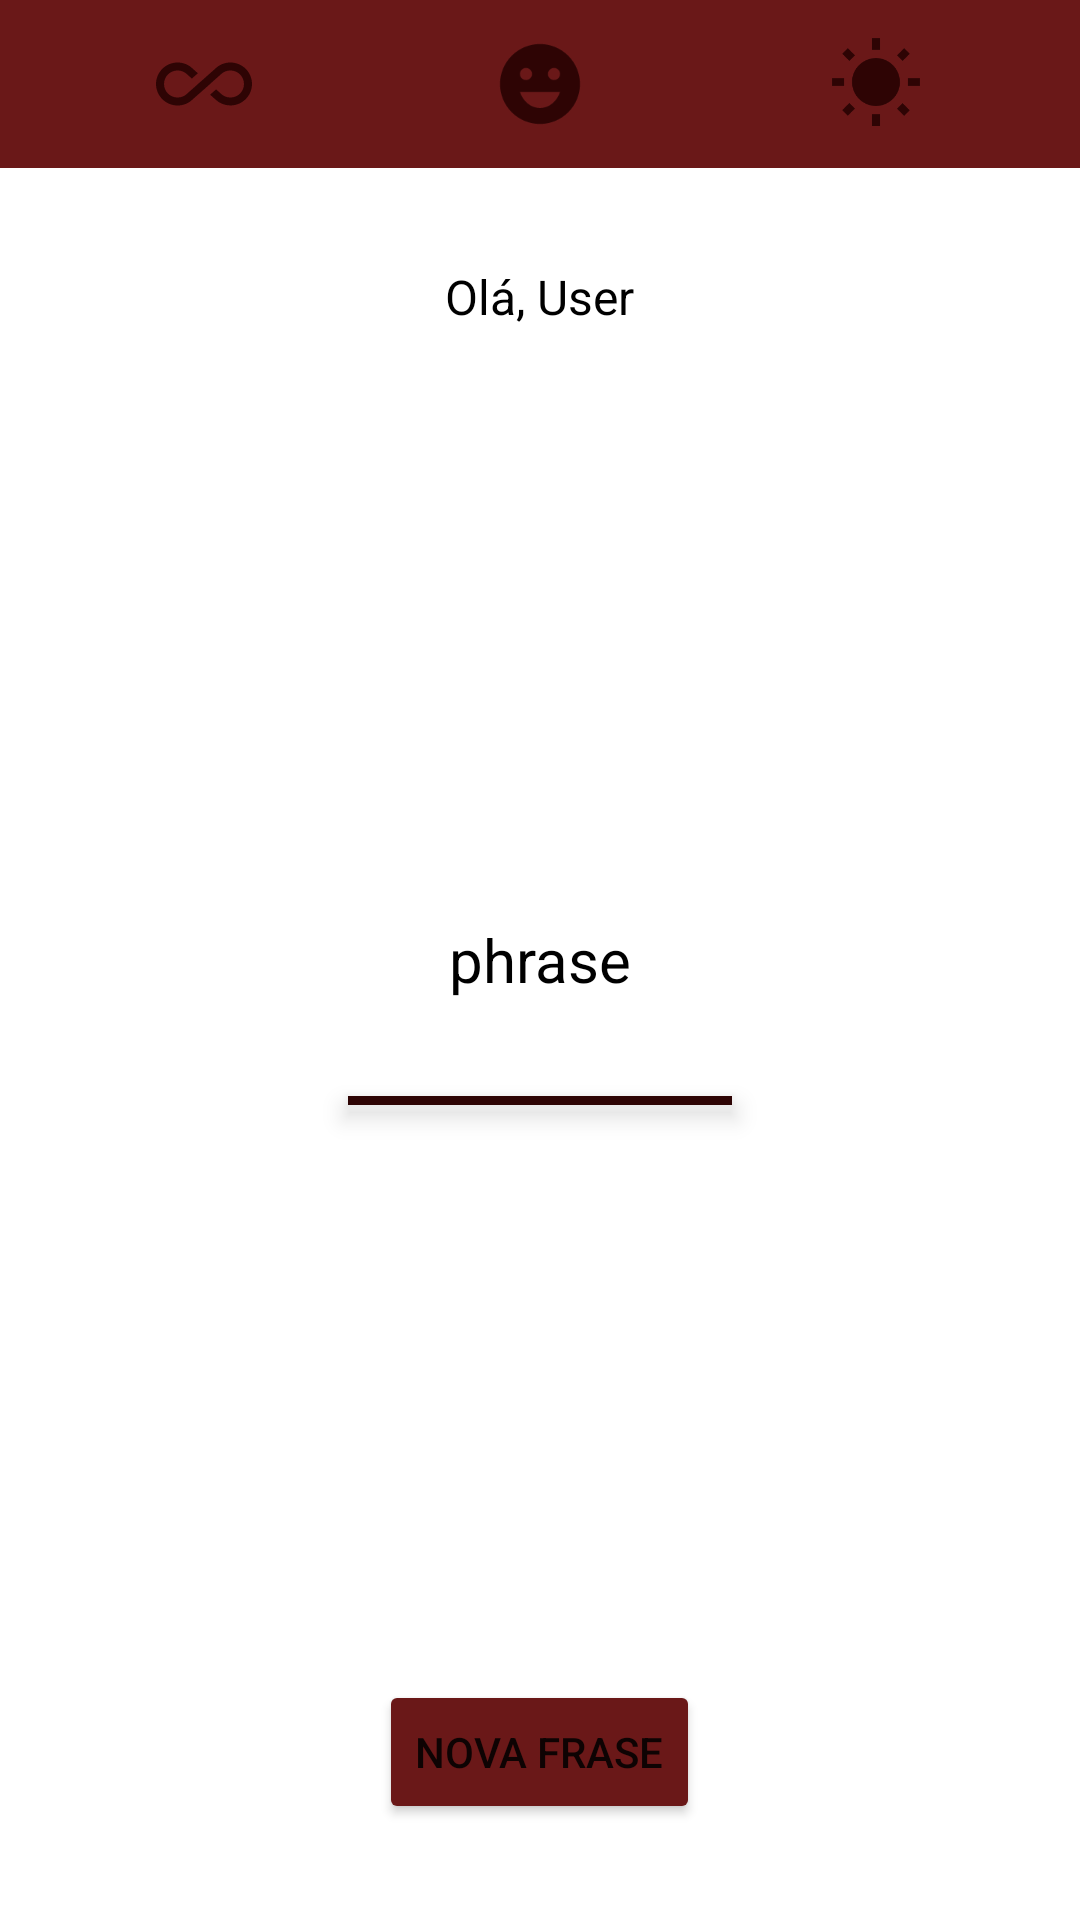

Locate icon controls on the screen. Image size 1080 × 1920, boxes as [x1,y1,x2,y2].
infinity: [156,62,252,106]
smile: [500,44,580,124]
sun: [832,38,920,126]
